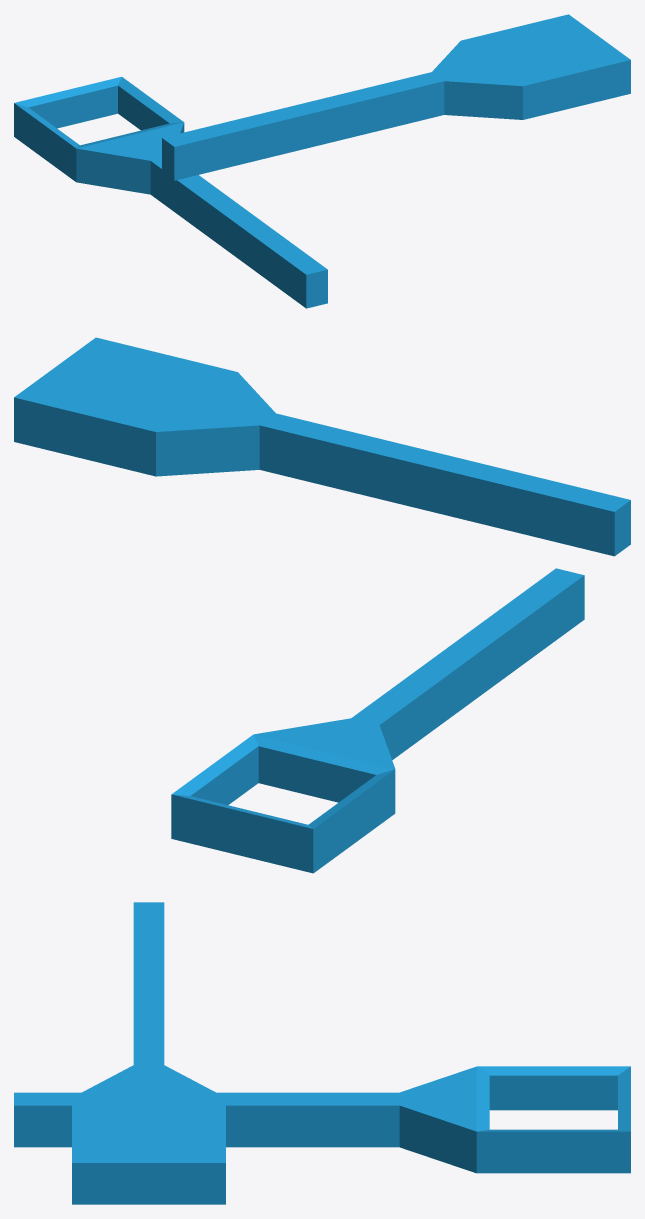
Rendered from model_map_15.fbx.
3 renders of one model, top to bottom at view 1: azimuth 30°, elevation 25°; view 2: azimuth 150°, elevation 25°; view 3: azimuth 270°, elevation 25°, orthographic. The views are drawn at different scales.
Visible parts, largest first — view 1: lvl, col; view 2: lvl, col; view 3: lvl, col.
Part boxes in pixels (bbox=[...]): lvl: bbox=[14, 60, 630, 308]; col: bbox=[14, 14, 630, 274]; lvl: bbox=[14, 397, 630, 873]; col: bbox=[14, 337, 630, 828]; lvl: bbox=[14, 1075, 630, 1204]; col: bbox=[14, 902, 630, 1162].
Bounding box in the file's own units: 800 × 260 × 800.
